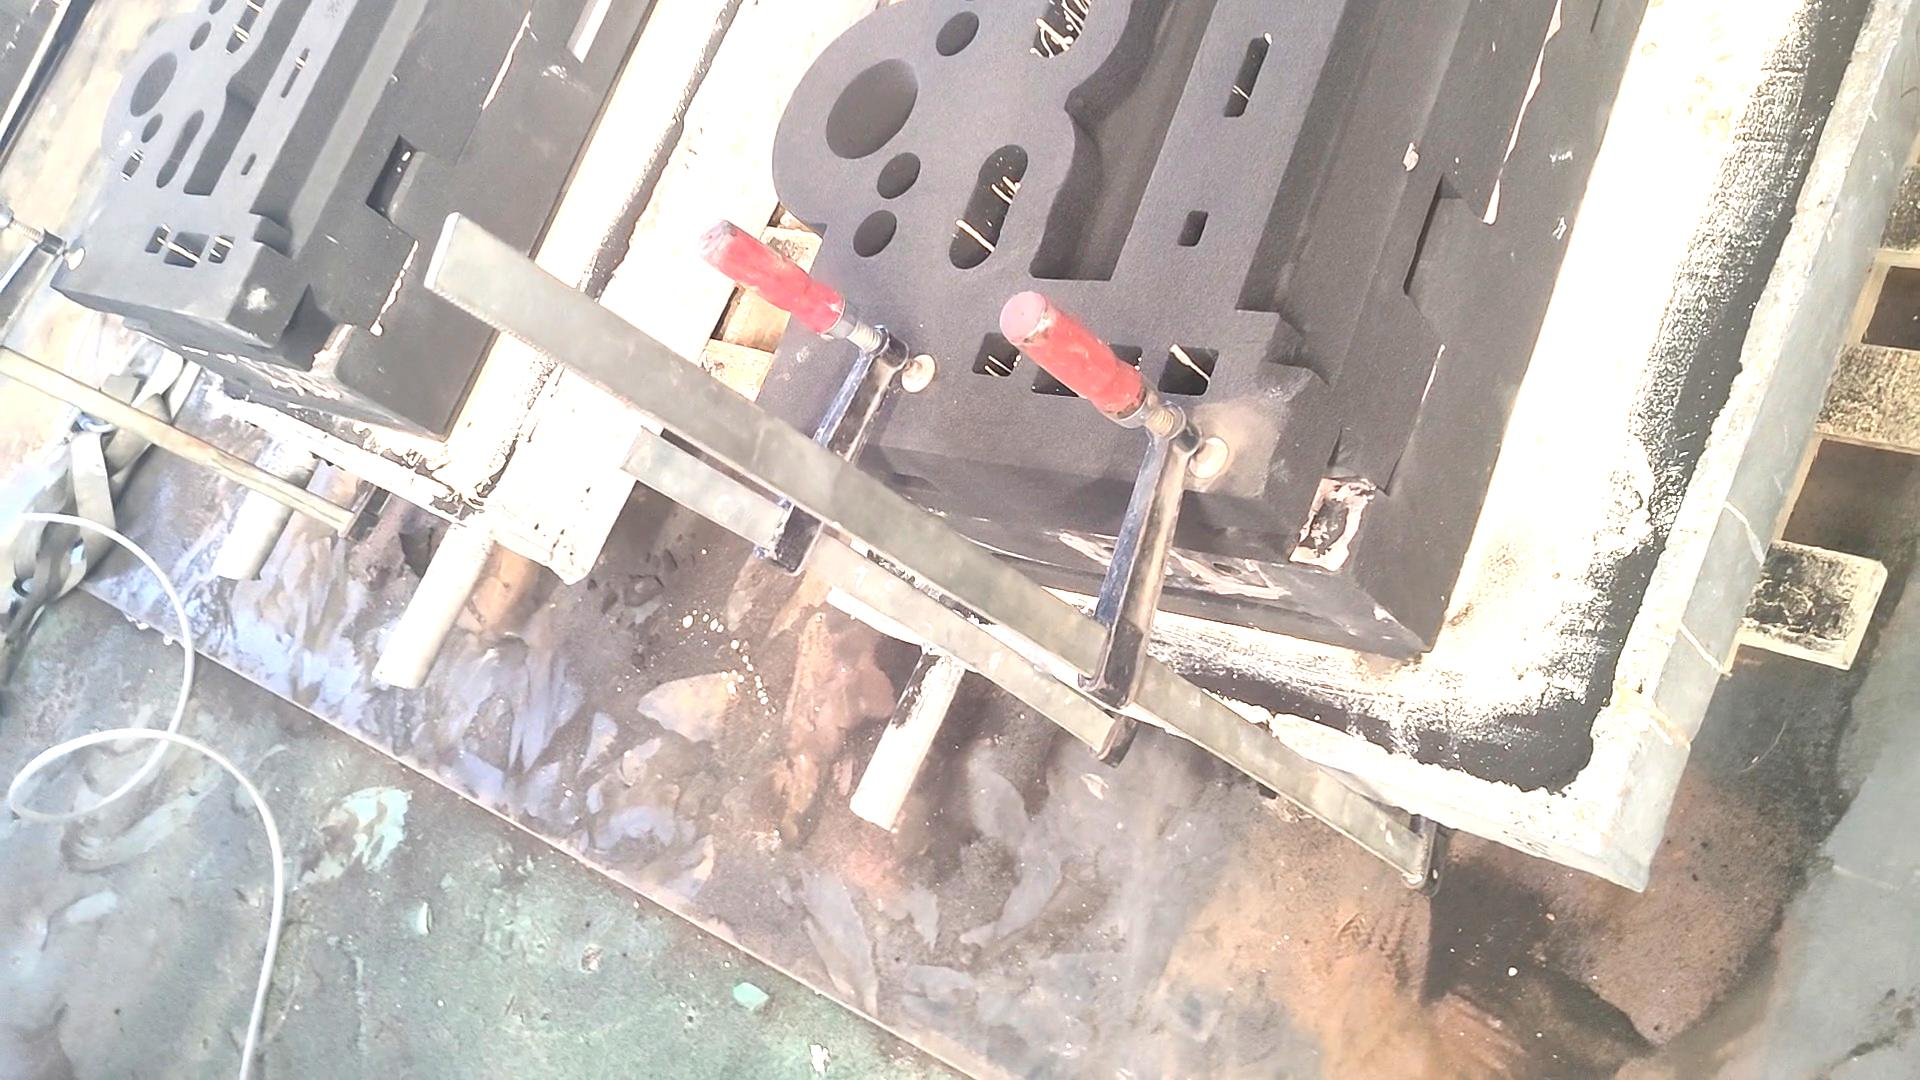pouring hole: (825, 59, 919, 161), (131, 51, 177, 117)
